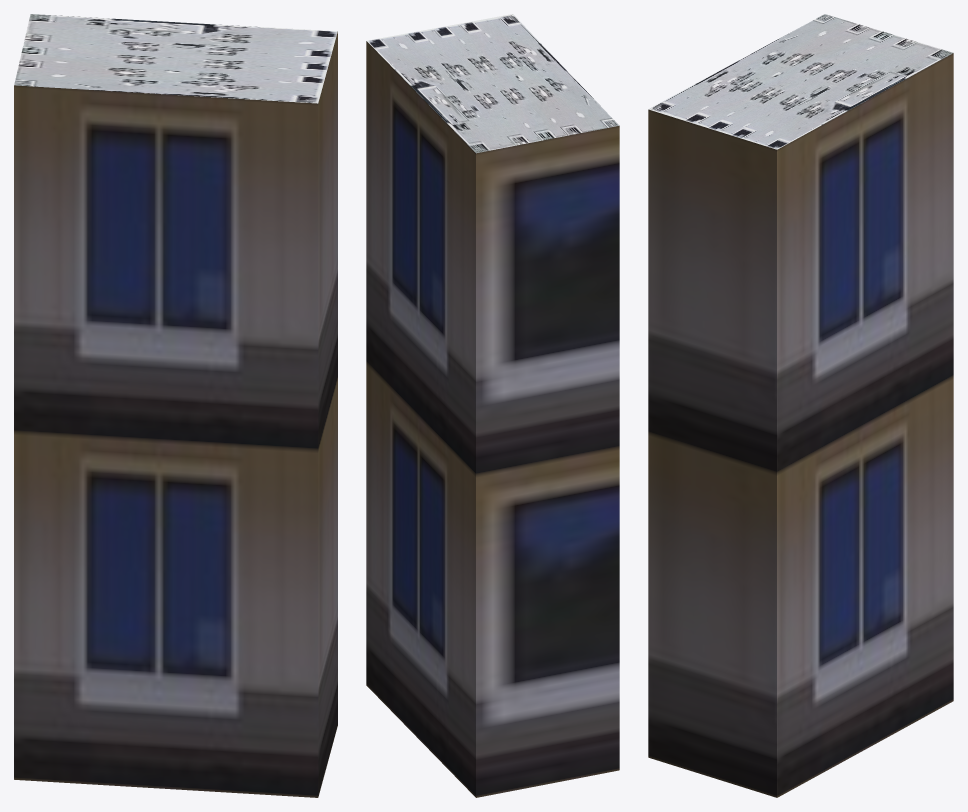
File: ResTex__1741.fbx
3 renders of one model, left to right at view 1: azimuth 30°, elevation 25°; view 2: azimuth 150°, elevation 25°; view 3: azimuth 270°, elevation 25°, orthographic. The views are drawn at different scales.
Visible parts, largest first — view 1: CityEngineMaterial_5_m, CityEngineMaterial_4_m; view 2: CityEngineMaterial_5_m, CityEngineMaterial_4_m; view 3: CityEngineMaterial_5_m, CityEngineMaterial_4_m.
Part boxes in pixels (<box>): CityEngineMaterial_5_m: <box>14,31,337,797</box>; CityEngineMaterial_4_m: <box>14,14,337,103</box>; CityEngineMaterial_5_m: <box>366,41,619,797</box>; CityEngineMaterial_4_m: <box>367,14,618,153</box>; CityEngineMaterial_5_m: <box>648,53,953,797</box>; CityEngineMaterial_4_m: <box>648,14,953,149</box>.
Bounding box in the file's own units: 2.7 × 6 × 2.56.
2 materials, 2 textured.
